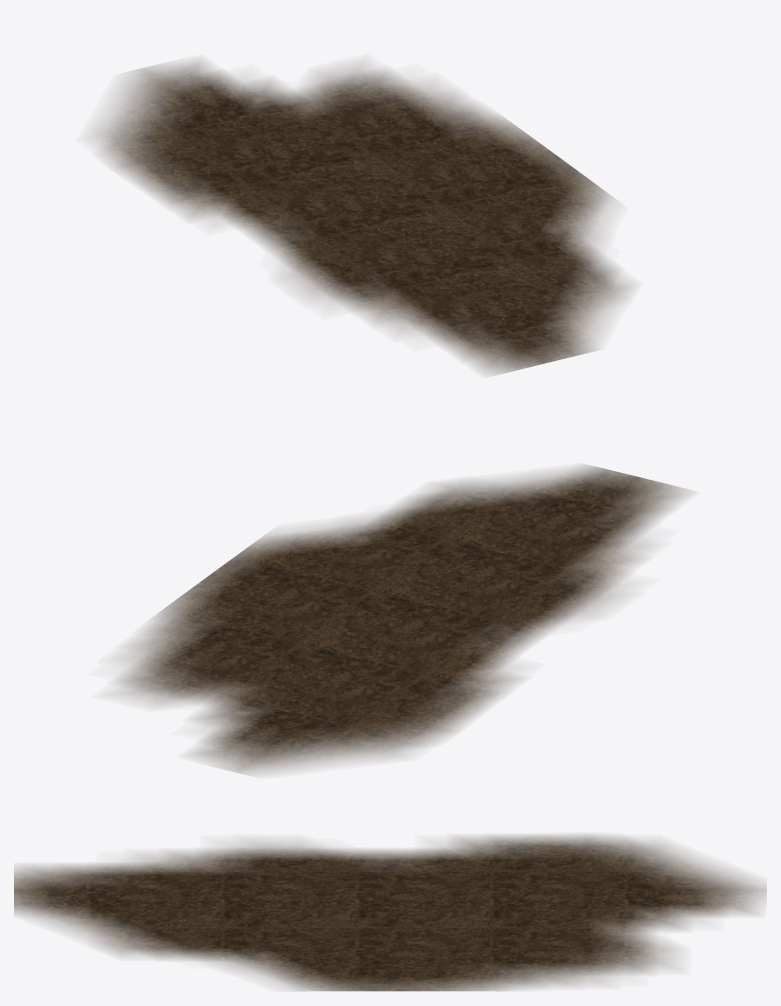
Rendered from mud_puddle.glb.
3 views of the same model, one above another, from view 1: azimuth 30°, elevation 25°; view 2: azimuth 150°, elevation 25°; view 3: azimuth 270°, elevation 25° (orthographic). The views are drawn at different scales.
Parts seen in each view (by area): view 1: mud_puddle; view 2: mud_puddle; view 3: mud_puddle.
Part boxes in pixels (x1,y1,x2,y2): mud_puddle: (92, 60, 631, 375); mud_puddle: (116, 465, 688, 774); mud_puddle: (14, 834, 766, 991).
Bounding box in the file's own units: 5.6 × 0.0182 × 11.2.
1 material, 1 textured.
